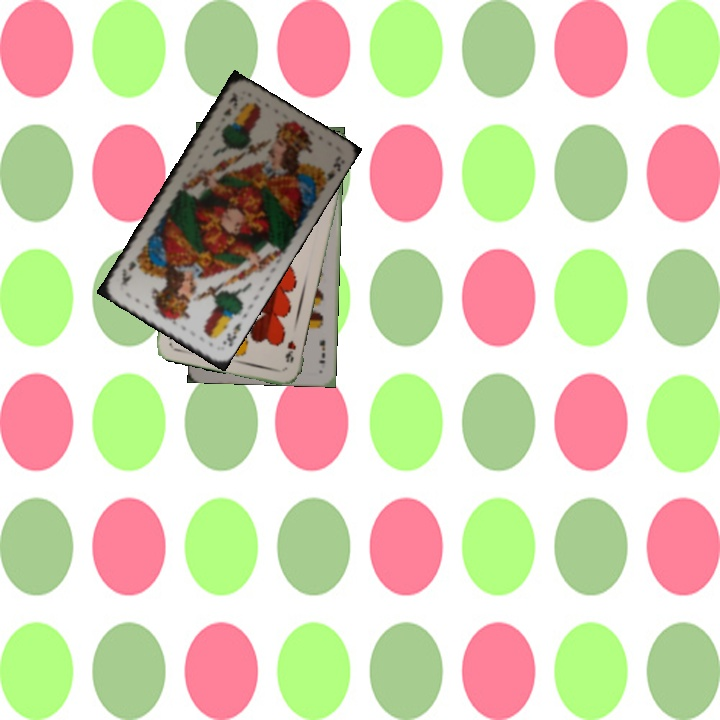E7: (315, 336, 328, 366)
EK: (218, 318, 244, 349), (219, 88, 240, 119)
H9: (281, 336, 299, 365)
